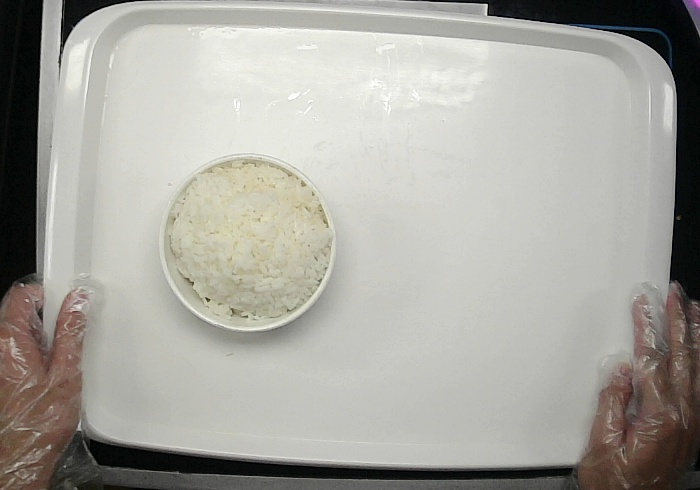HZYJPL-Fan_Wan: (159, 152, 336, 332)
